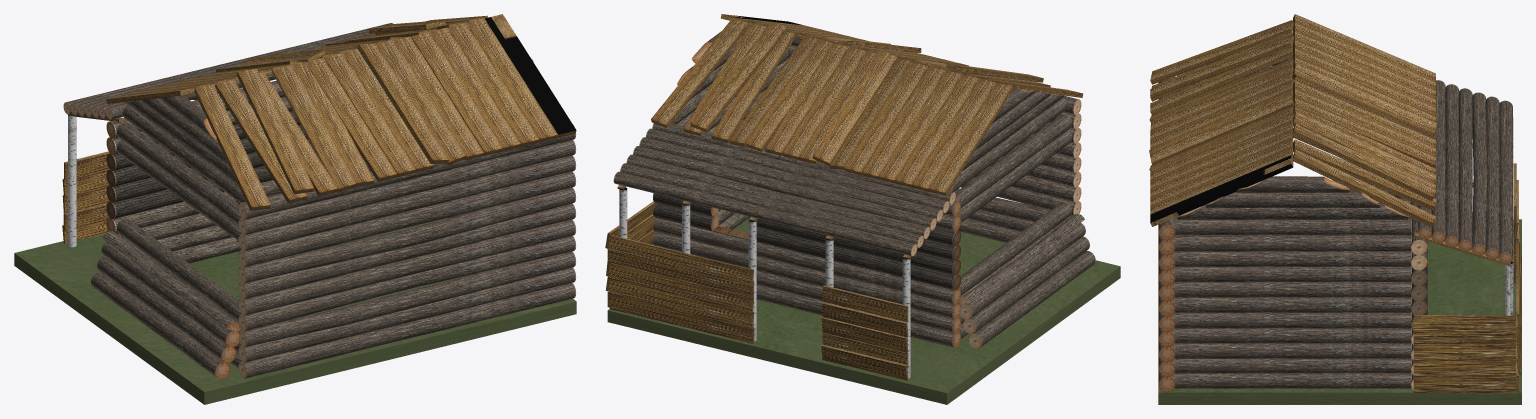
The model's file is Shack.dae.
3 renders of one model, left to right at view 1: azimuth 30°, elevation 25°; view 2: azimuth 150°, elevation 25°; view 3: azimuth 270°, elevation 25°, orthographic. The views are drawn at different scales.
Parts seen in each view (by area): view 1: Floor, Log1_3, Log1_7, Log1_5, Log1_8, Log1_1, Log1_9, Log1_10, Log1_4, Log1_2, Log1_6, Side_1_Planks_7 (+47 smaller); view 2: Floor, Log1_17, Roof_Log6, Log1_23, Log1_16, Roof_Log2, Roof_Log3, Roof_Log1, Roof_Log5, Roof_Log4, Log1_56, Plank4 (+55 smaller); view 3: Floor, Log1_34, Log1_37, Log1_27, Log1_30, Log1_32, Log1_33, Log1_25, Log1_28, Log1_29, Log1_31, Log1_26 (+51 smaller).
Boxes of the visible parts, x1,y1,x2,y2 form: Floor: (14,218,576,404); Log1_3: (239,251,576,347); Log1_7: (238,187,576,283); Log1_5: (238,219,576,315); Log1_8: (238,171,576,267); Log1_1: (238,282,576,378); Log1_9: (238,155,576,251); Log1_10: (238,140,576,235); Log1_4: (238,235,576,331); Log1_2: (238,267,576,362); Log1_6: (238,203,576,299); Side_1_Planks_7: (273,64,356,192); Floor: (607,218,1120,404); Log1_17: (653,217,960,304); Roof_Log6: (613,171,917,256); Log1_23: (653,203,960,290); Log1_16: (653,232,960,319); Roof_Log2: (633,146,936,230); Roof_Log3: (639,137,943,221); Roof_Log1: (646,128,949,212); Roof_Log5: (620,163,923,247); Roof_Log4: (626,154,930,238); Log1_56: (653,193,960,275); Plank4: (608,235,753,286); Floor: (1158,219,1521,404); Log1_34: (1174,235,1411,251); Log1_37: (1174,218,1411,235); Log1_27: (1174,343,1411,358); Log1_30: (1174,297,1411,312); Log1_32: (1174,267,1411,282); Log1_33: (1174,251,1411,266); Log1_25: (1174,373,1411,388); Log1_28: (1174,328,1411,343); Log1_29: (1174,313,1411,328); Log1_31: (1174,282,1411,297); Log1_26: (1174,359,1411,373).
Bounding box in the file's own units: 77.37 × 50.29 × 69.18.
